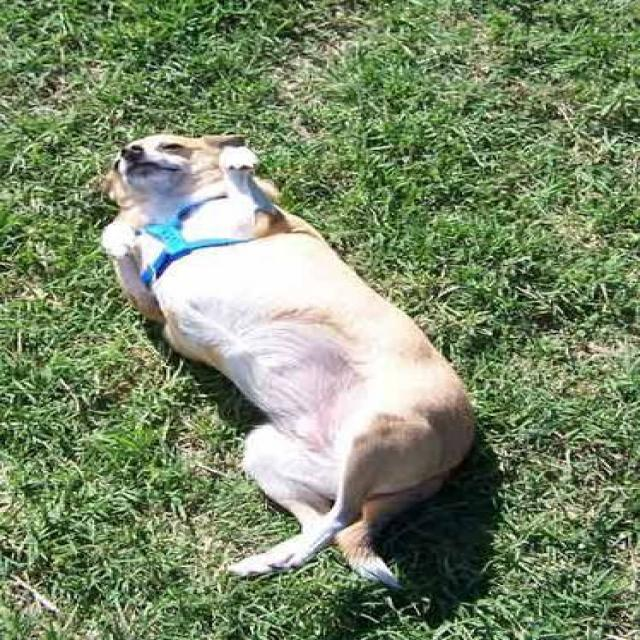dog: (66, 78, 510, 606)
